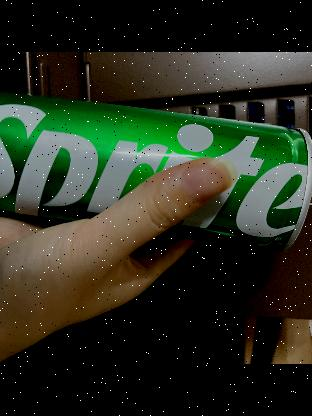Can: (0, 93, 312, 254)
